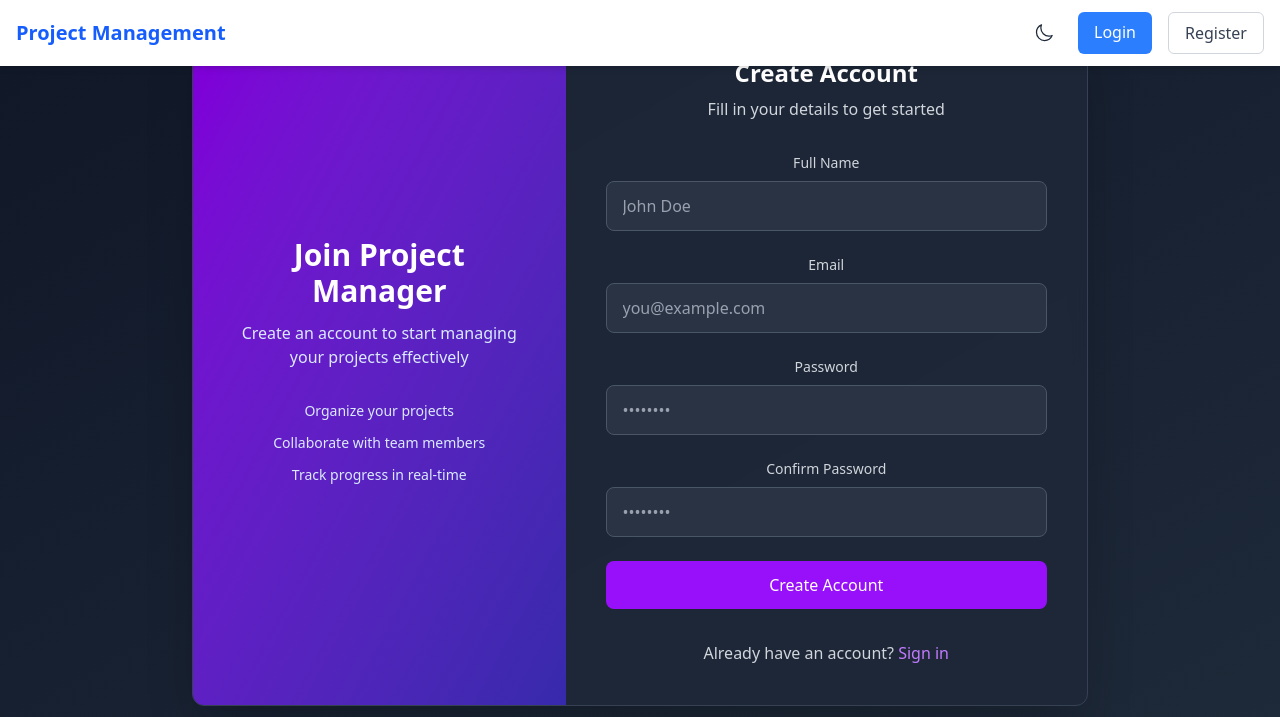
Authentication Tests › Registration Page › should show error when passwords do not match
Type "Test User" into the field with id "name".
click(827, 206); type("Test User")  # box [606, 181, 1048, 231]
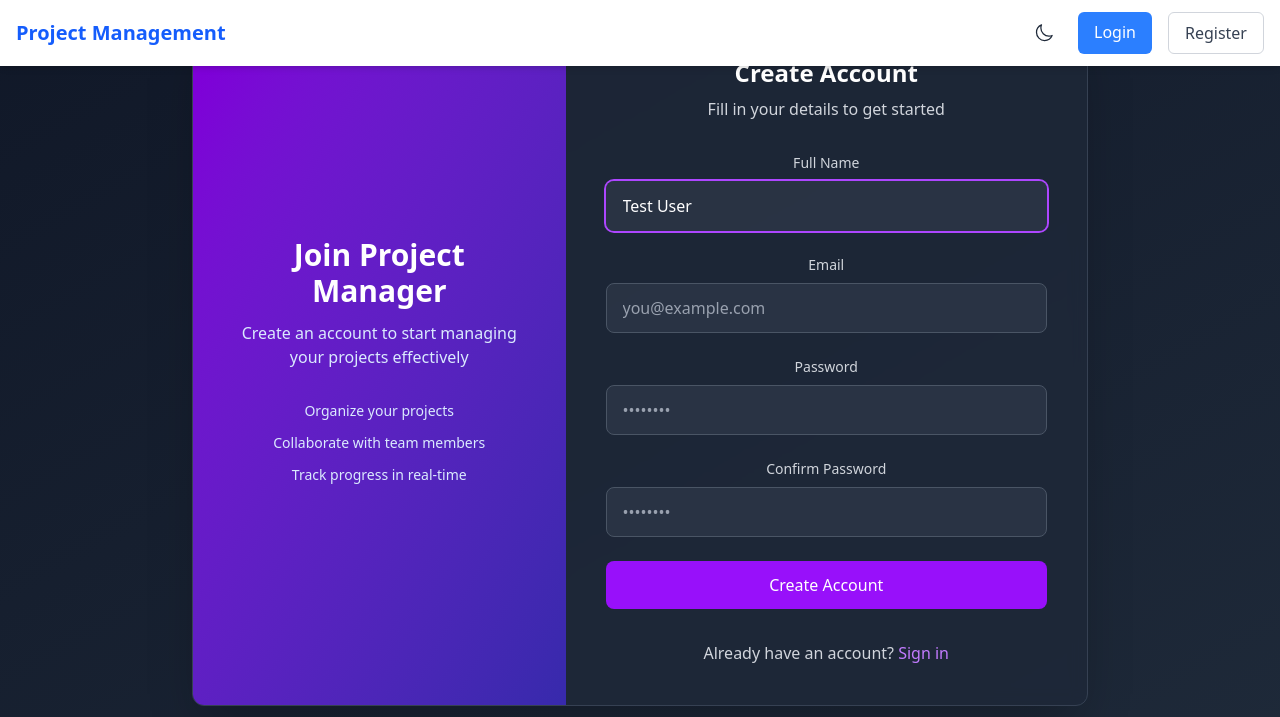
Type "newuser@example.com" into the field with id "email".
click(827, 308); type("newuser@example.com")  # box [606, 283, 1048, 333]
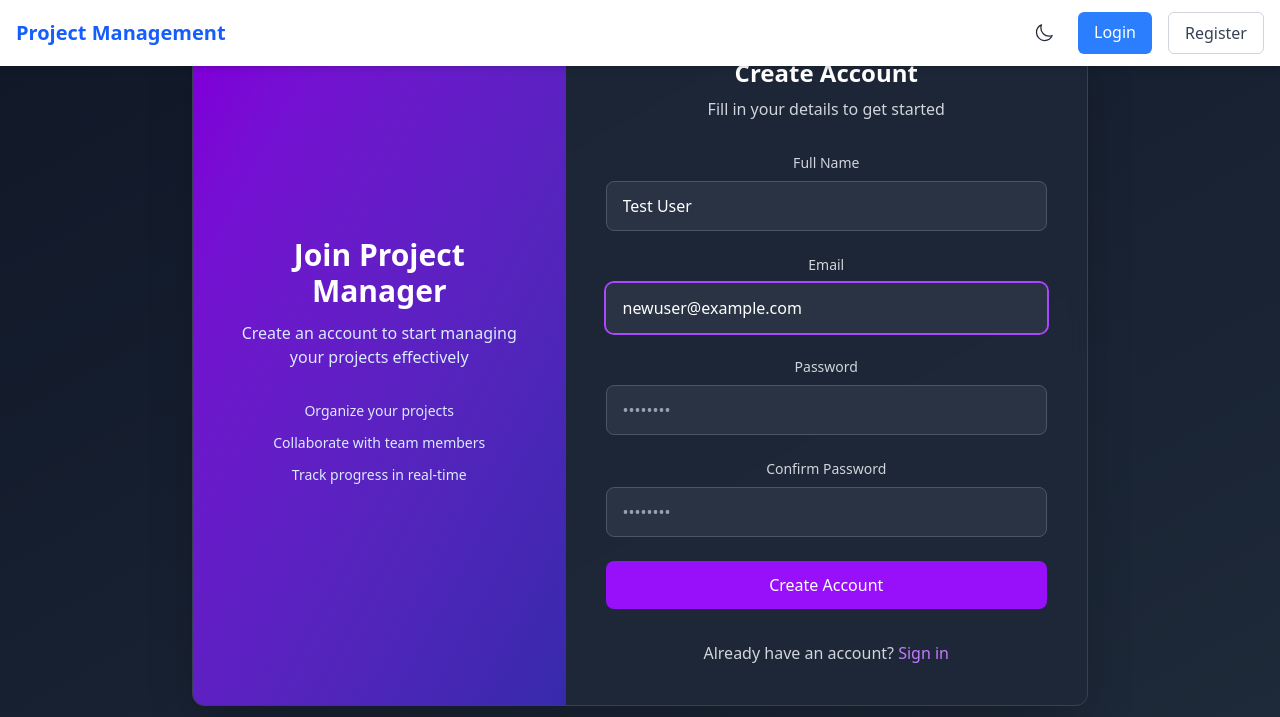
Type "password123" into the password field labelled "Password".
click(827, 410); type("password123")  # box [606, 385, 1048, 435]
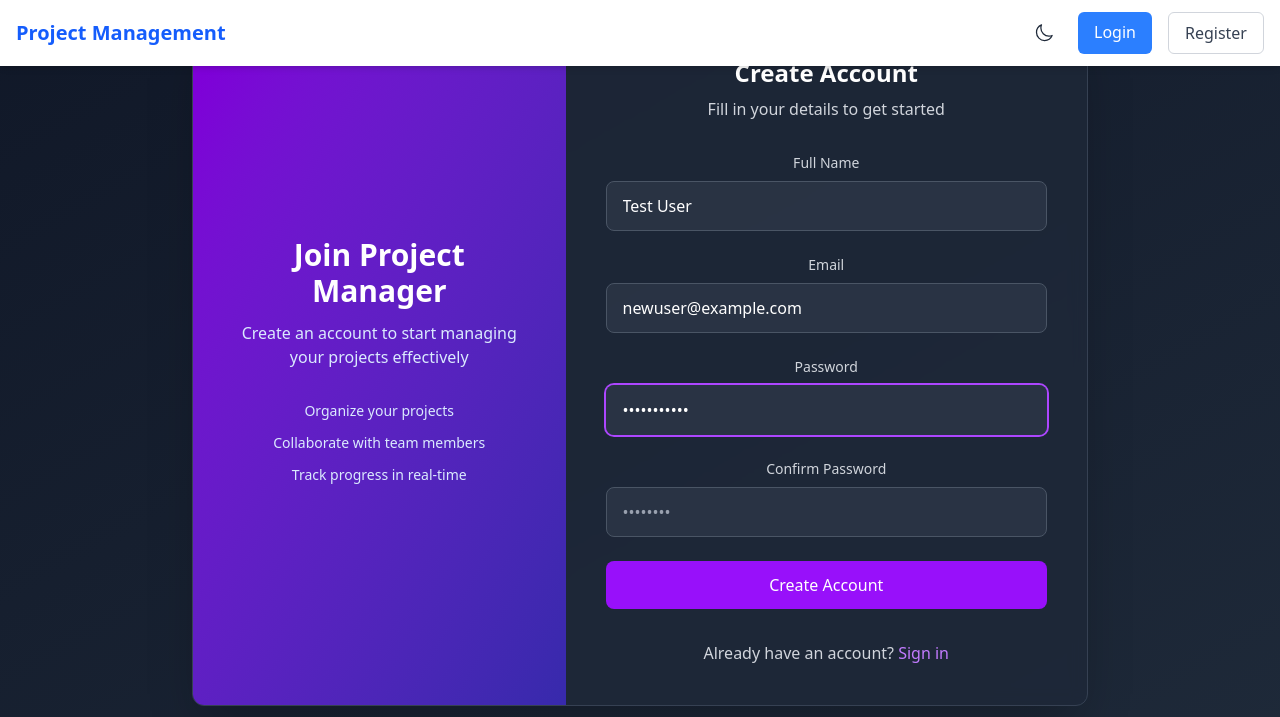
Type "differentPassword" into the password field with id "confirmPassword".
click(827, 512); type("differentPassword")  # box [606, 487, 1048, 537]
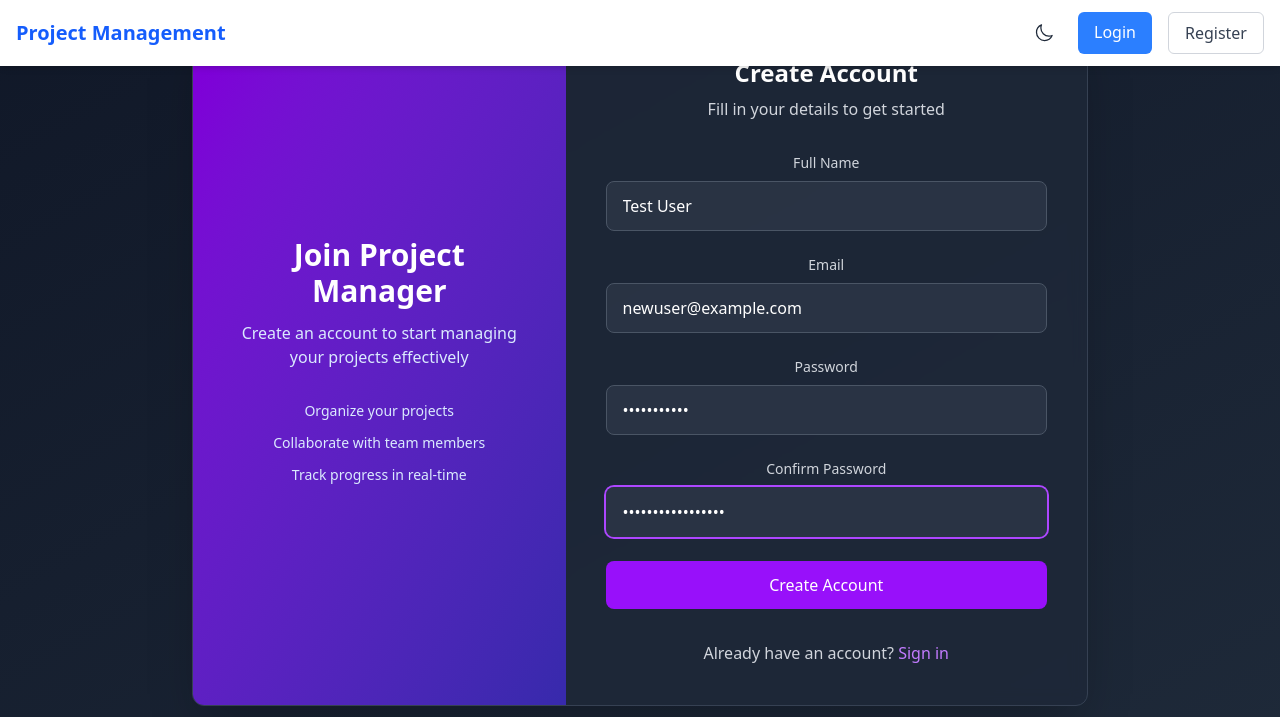
Click the button "Create Account".
click(827, 585)  # box [606, 561, 1048, 609]
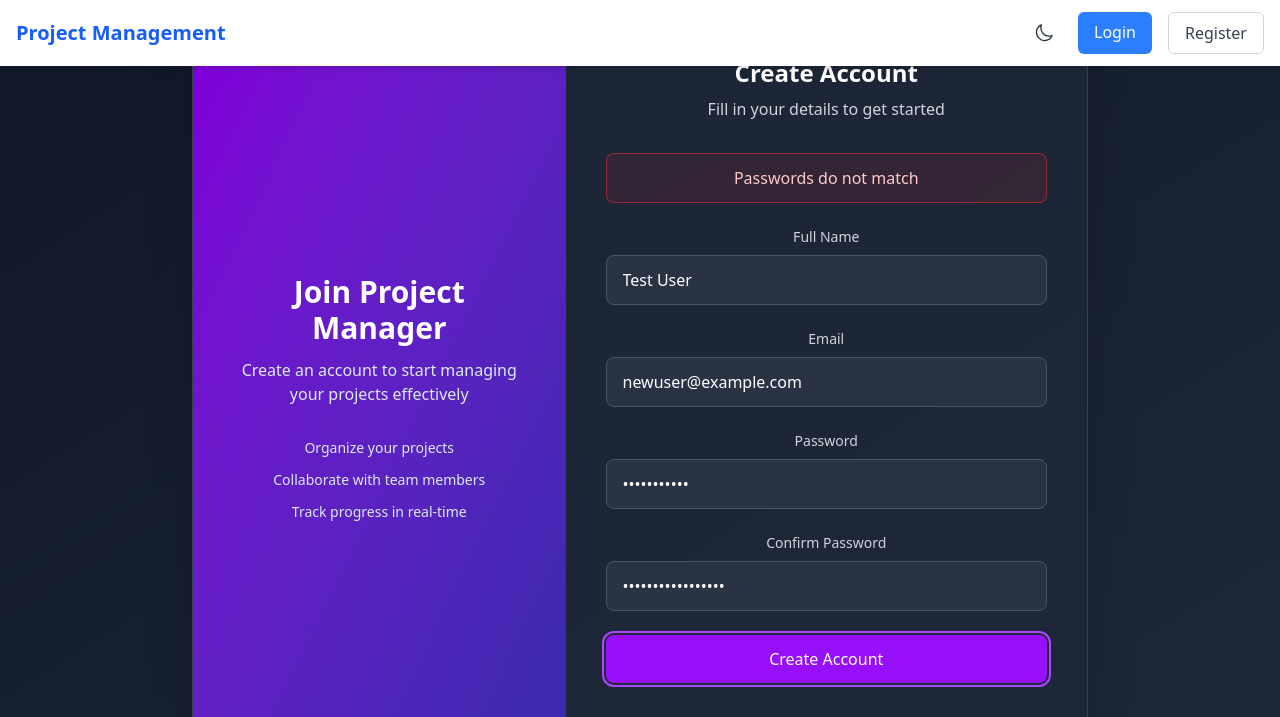
expect the text "Passwords do not match" is shown: met, box [606, 153, 1047, 203]
